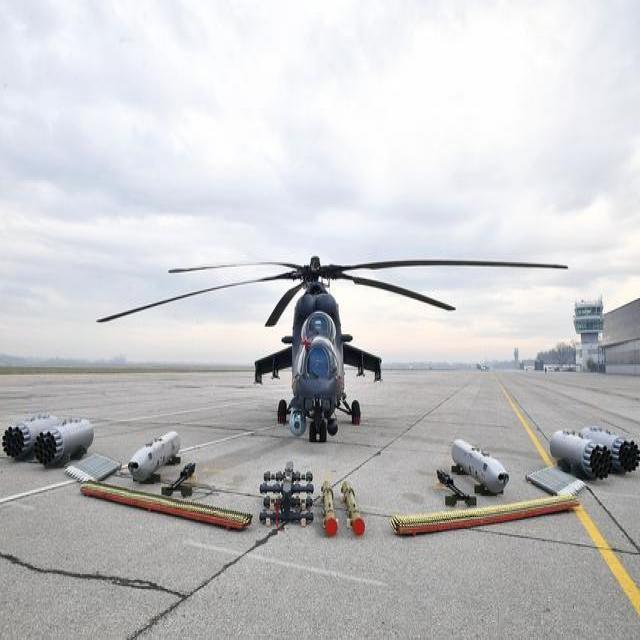MIL_HELO: (92, 245, 576, 446)
